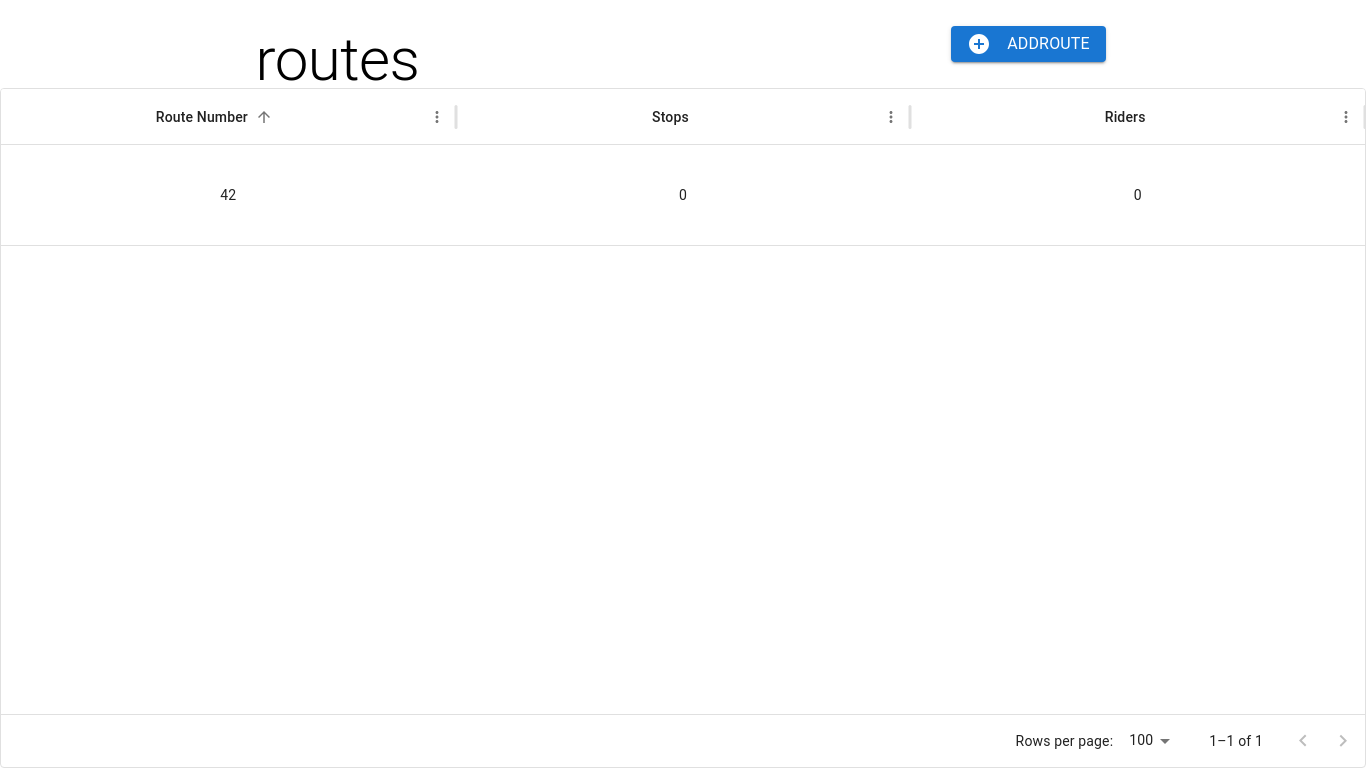
Routes Tests › opens add route modal when add route button clicked, and closes on cancel click
Click the button "addRoute": [1028, 44] box [951, 26, 1106, 62]
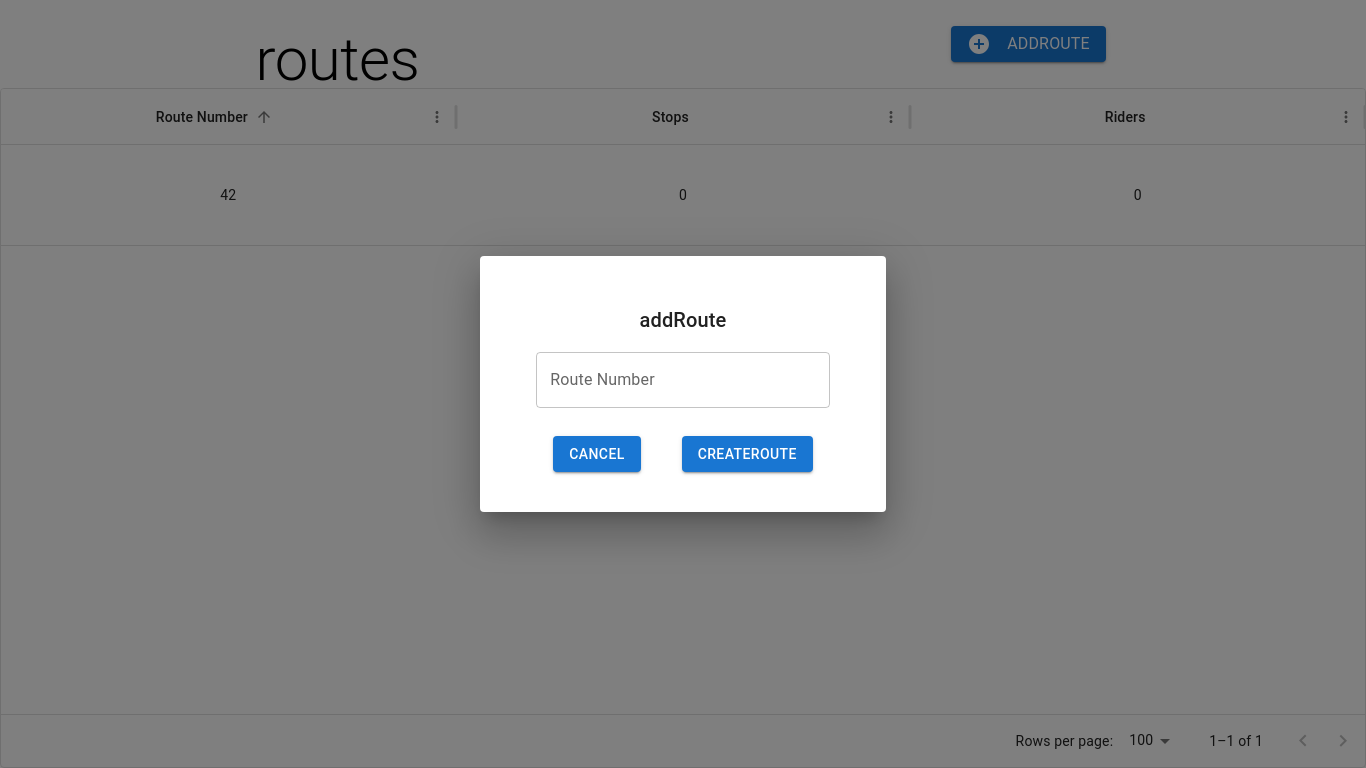
Expected: the button "createRoute" is shown, [682, 436, 813, 472]
Expected: the button "cancel" is shown
Click the button "cancel": [597, 454] box [553, 436, 641, 472]
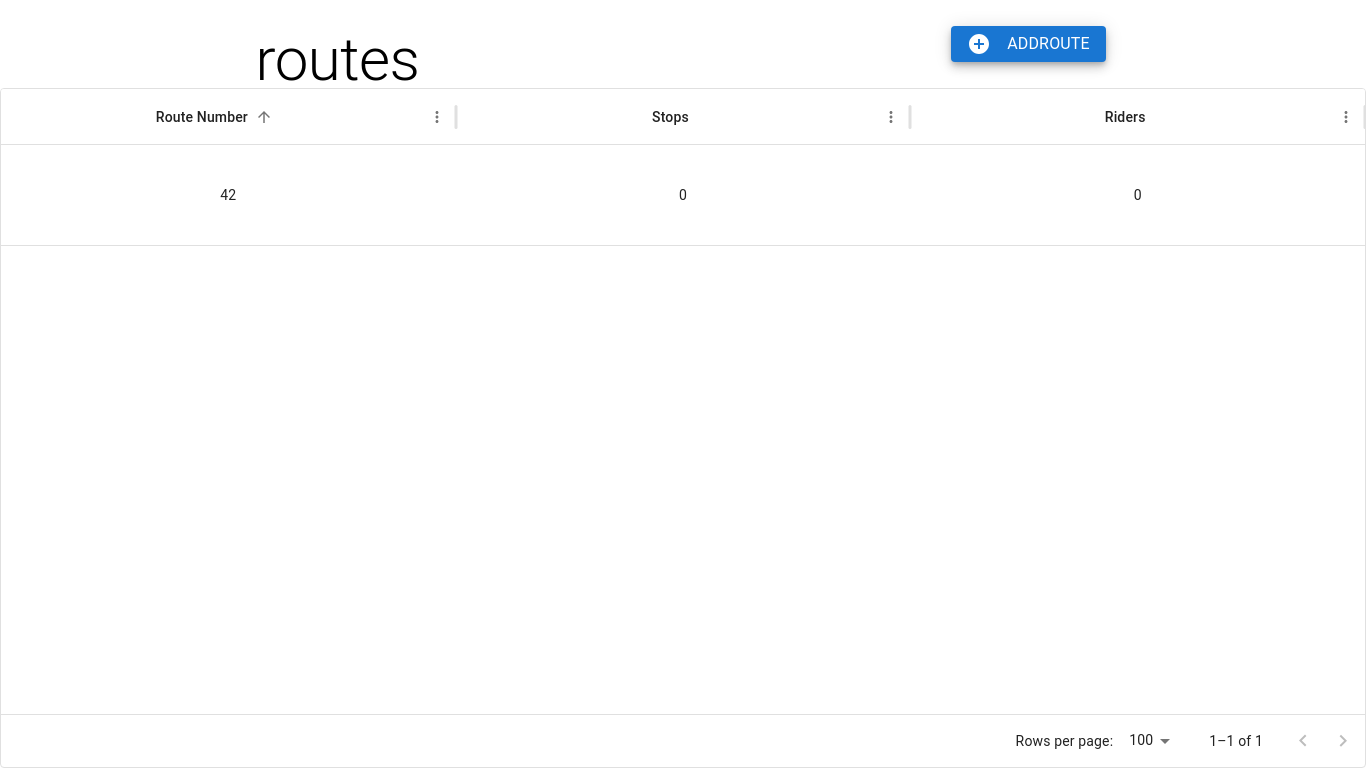
Expected: the button "cancel" is gone
